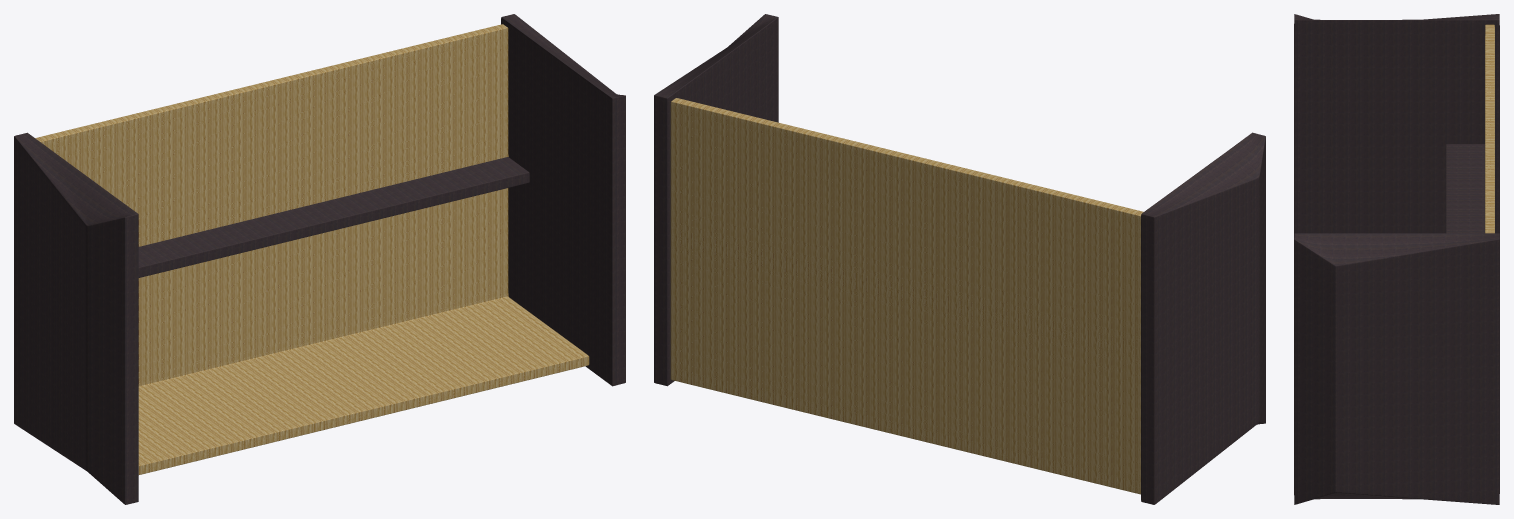
Rendered from Table5.FBX.
The picture shows the model from 3 angles, left to right: view 1: azimuth 30°, elevation 25°; view 2: azimuth 150°, elevation 25°; view 3: azimuth 270°, elevation 25°; orthographic projection. The views are drawn at different scales.
Parts seen in each view (by area): view 1: Solenne Co; view 2: Solenne Co; view 3: Solenne Co.
Boxes of the visible parts, bbox=[...] form: Solenne Co: bbox=[14, 14, 625, 504]; Solenne Co: bbox=[654, 14, 1265, 504]; Solenne Co: bbox=[1294, 14, 1499, 504].
Bounding box in the file's own units: 228 × 118 × 82.68.
2 materials, 2 textured.
